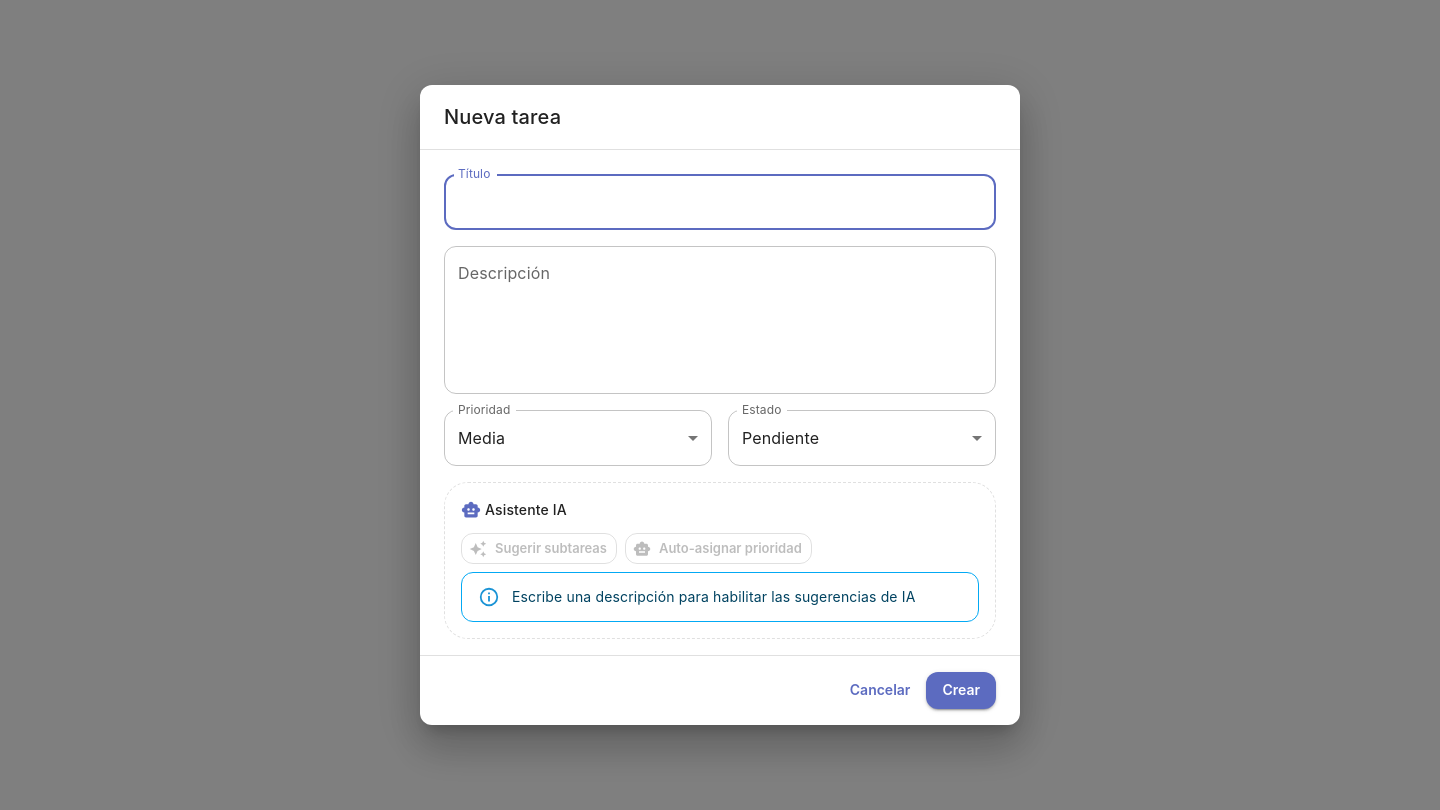
Test case: TaskFormDialog › modo crear › debe mostrar error si se envía sin título
This screenshot has width=1440, height=810.
Click the button "Crear". click: [961, 690]
box: [926,672,996,709]
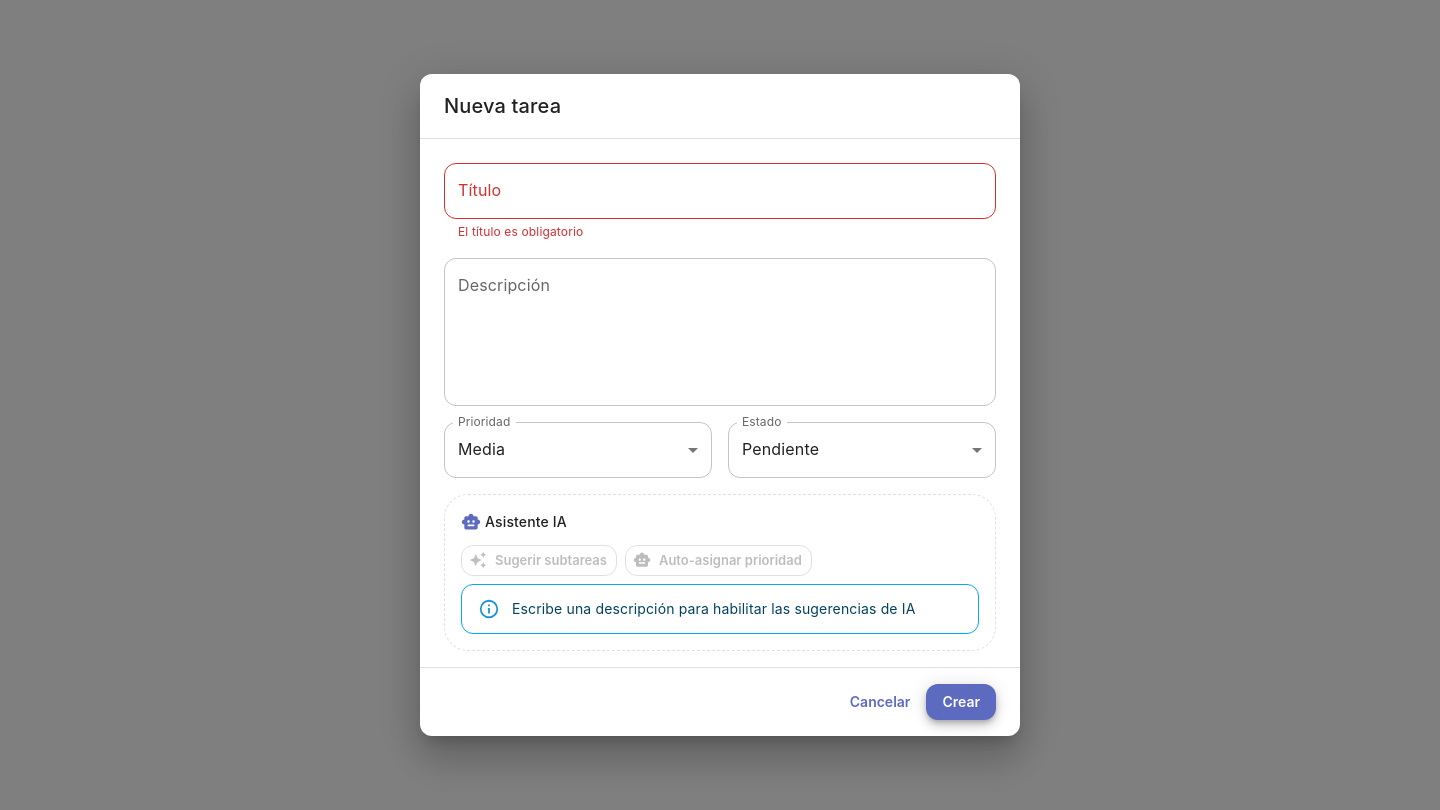
Check: the text "El título es obligatorio" is shown, box [458,224,583,239]
